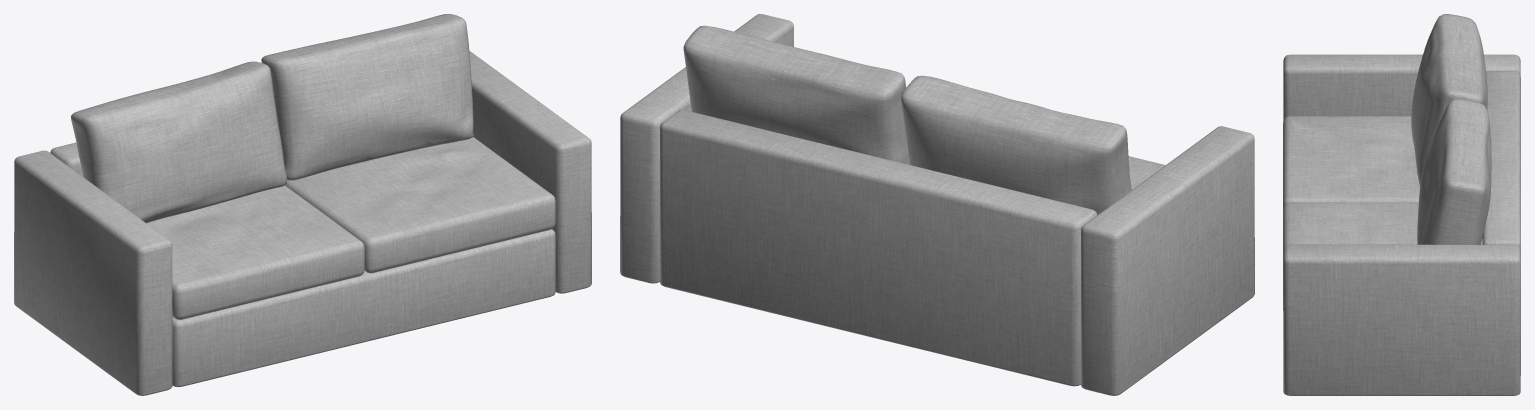
The picture shows the model from 3 angles, left to right: view 1: azimuth 30°, elevation 25°; view 2: azimuth 150°, elevation 25°; view 3: azimuth 270°, elevation 25°; orthographic projection. The views are drawn at different scales.
Visible parts, largest first — view 1: Object_152; view 2: Object_152; view 3: Object_152.
Part boxes in pixels (x1,y1,x2,y2): Object_152: (14, 14, 591, 395); Object_152: (620, 14, 1254, 395); Object_152: (1283, 14, 1520, 395).
Bounding box in the file's own units: 1.73 × 0.7738 × 0.8433.
1 material, 1 textured.
